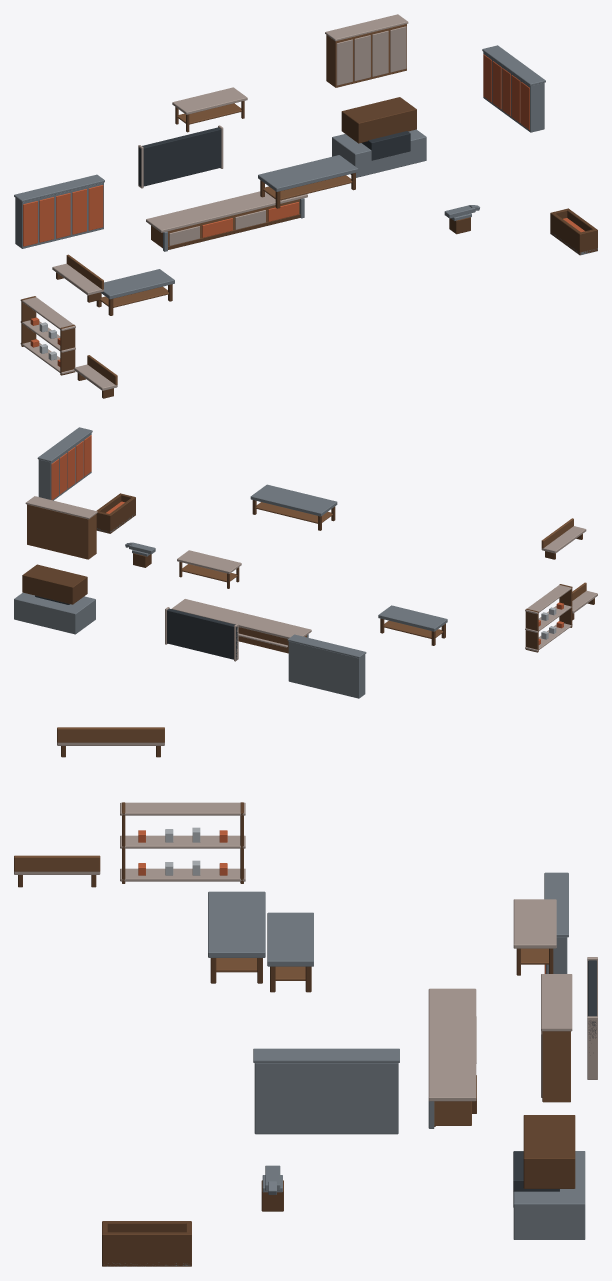
The model's file is cinderlane_tool_forge.lod1.glb.
3 views of the same model, one above another, from view 1: azimuth 30°, elevation 25°; view 2: azimuth 150°, elevation 25°; view 3: azimuth 270°, elevation 25° (orthographic). The views are drawn at different scales.
Bounding box in the file's own units: 25.9 × 6.3 × 16.25.
